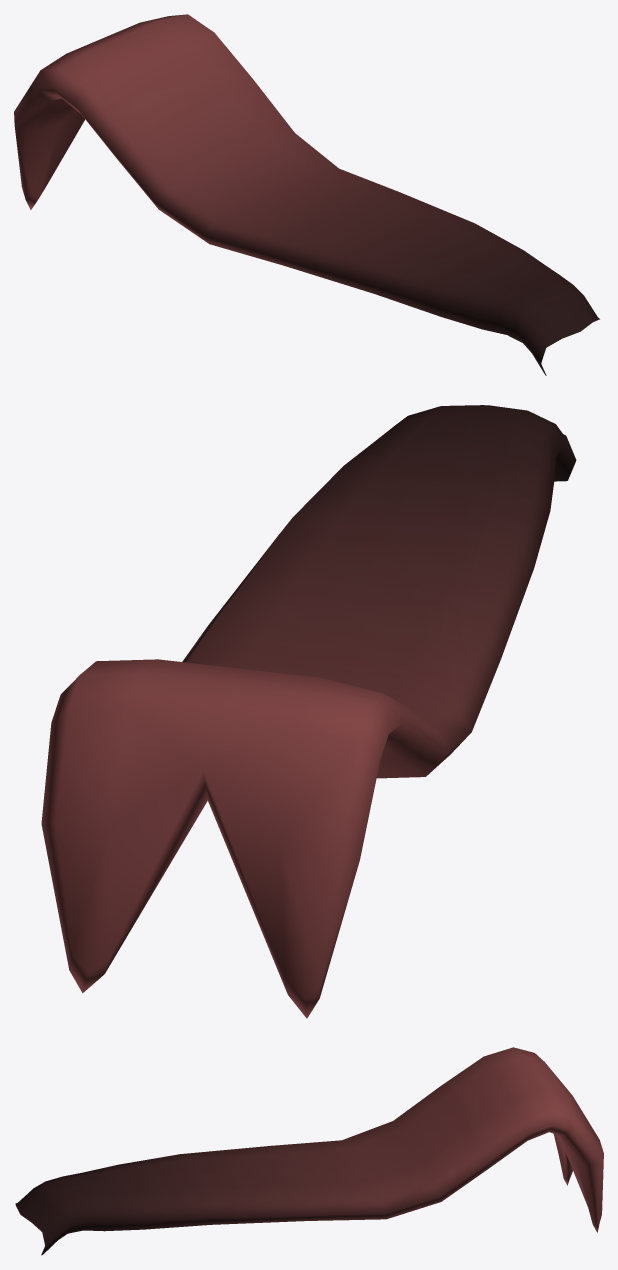
File: forked.glb
3 renders of one model, top to bottom at view 1: azimuth 30°, elevation 25°; view 2: azimuth 150°, elevation 25°; view 3: azimuth 270°, elevation 25°, orthographic. The views are drawn at different scales.
Parts seen in each view (by area): view 1: cc_forked4; view 2: cc_forked4; view 3: cc_forked4.
Part boxes in pixels (x1,y1,x2,y2): cc_forked4: [14, 14, 599, 375]; cc_forked4: [41, 405, 576, 1018]; cc_forked4: [15, 1047, 603, 1255].
Size of the model in its own units: 0.0764 by 0.045 by 0.1707.
Materials: 1 (1 with a texture image).
